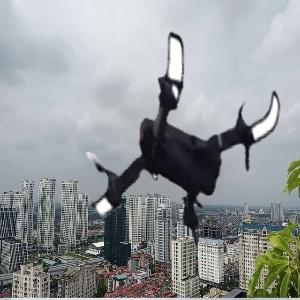drone: (56, 32, 297, 273)
